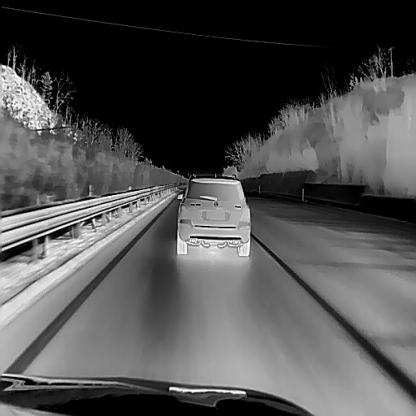car: (175, 172, 250, 255)
